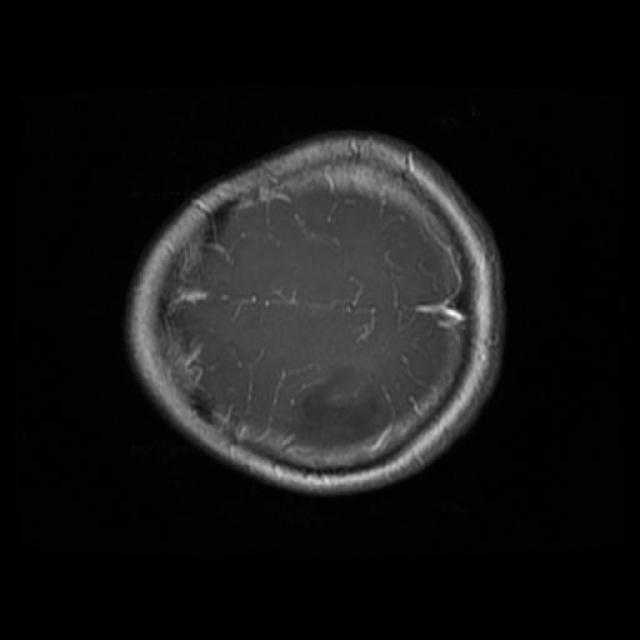Glioma: (294, 366, 391, 450)
